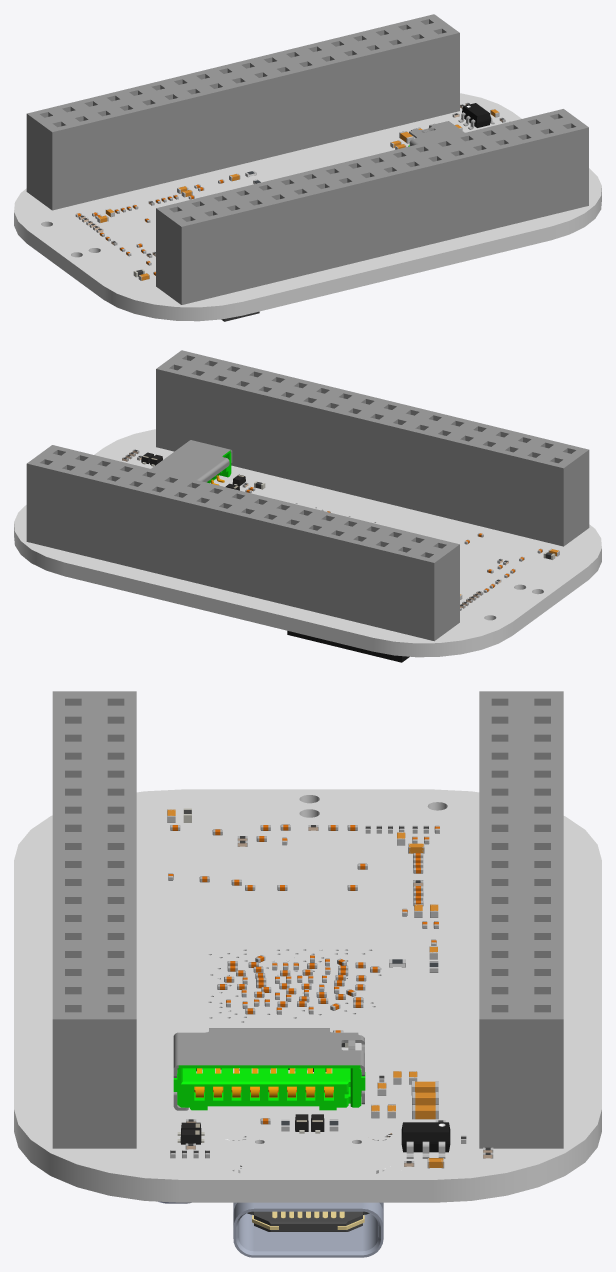
Rendered from pocketbeagle2.glb.
The picture shows the model from 3 angles, top to bottom: view 1: azimuth 30°, elevation 25°; view 2: azimuth 150°, elevation 25°; view 3: azimuth 270°, elevation 25°; orthographic projection. The views are drawn at different scales.
Parts seen in each view (by area): view 1: HEADER2X18P_2D54_SMD_PTH_MIRROR (×2), object 1, object 3464, SOT23_6; view 2: HEADER2X18P_2D54_SMD_PTH_MIRROR (×2), object 1, object 3464, object 3755; view 3: object 1, HEADER2X18P_2D54_SMD_PTH_MIRROR (×2), object 3464, object 3755, SOT23_6.
Part boxes in pixels (box(x1,y1,x2,y2)): HEADER2X18P_2D54_SMD_PTH_MIRROR (×2): box(26, 14, 588, 304); object 1: box(14, 93, 601, 321); object 3464: box(408, 121, 464, 146); SOT23_6: box(458, 103, 494, 129); HEADER2X18P_2D54_SMD_PTH_MIRROR (×2): box(26, 350, 589, 641); object 1: box(14, 429, 601, 657); object 3464: box(151, 440, 232, 485); object 3755: box(287, 631, 409, 662); object 1: box(14, 789, 601, 1202); HEADER2X18P_2D54_SMD_PTH_MIRROR (×2): box(52, 691, 563, 1148); object 3464: box(173, 1028, 365, 1110); object 3755: box(233, 1133, 392, 1257); SOT23_6: box(401, 1122, 450, 1158).
Size of the model in its own units: 0.0559 by 0.0132 by 0.035.
